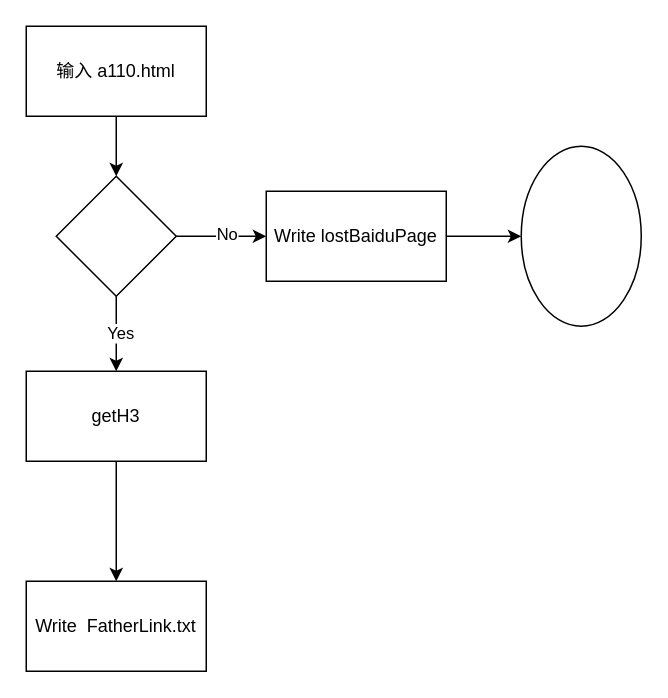
Some shapes in this 668 by 698 pixel diagram are drawn without their labels. The shapes that lost their labels are listed below. From the top down, each one's box as (x1, y1, x2, y2) in pixels, then its label:
(55, 175, 176, 296): if len 大于 5000
(520, 145, 641, 326): Goto 搜索引擎 关键词
